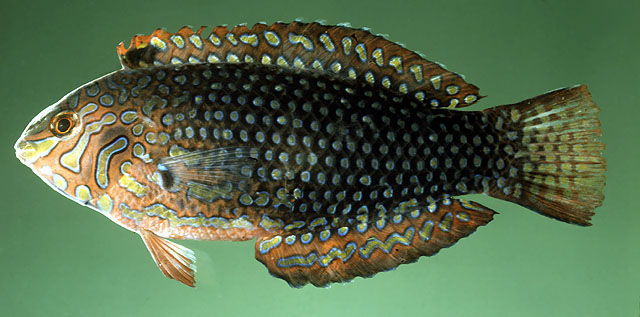fish: (13, 18, 607, 287)
